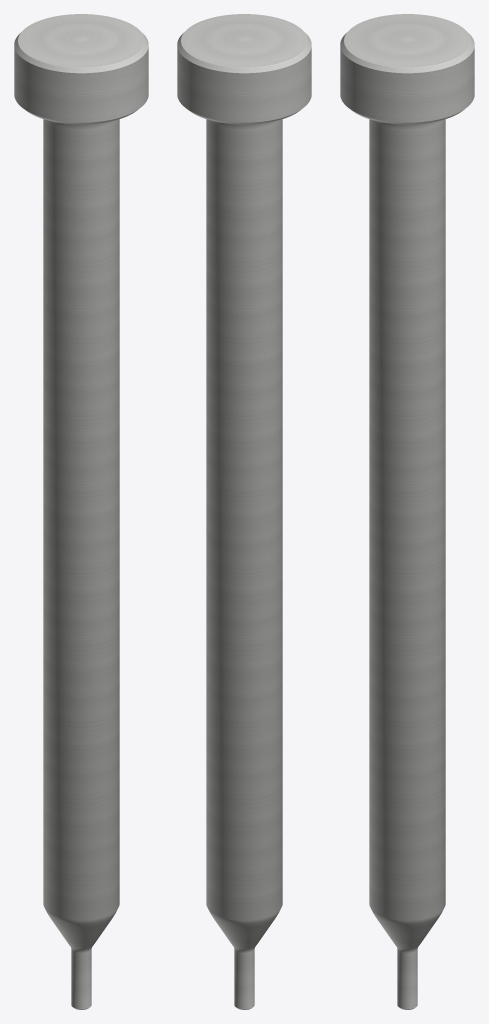
The model's file is punch.glb.
3 renders of one model, left to right at view 1: azimuth 30°, elevation 25°; view 2: azimuth 150°, elevation 25°; view 3: azimuth 330°, elevation 25°, orthographic.
Parts seen in each view (by area): view 1: Punch; view 2: Punch; view 3: Punch.
Part boxes in pixels (<box>): Punch: <box>14,14,148,1009</box>; Punch: <box>177,14,311,1009</box>; Punch: <box>340,14,474,1009</box>.
Bounding box in the file's own units: 0.0106 × 0.0841 × 0.0106.
Materials: 1 (1 with a texture image).
